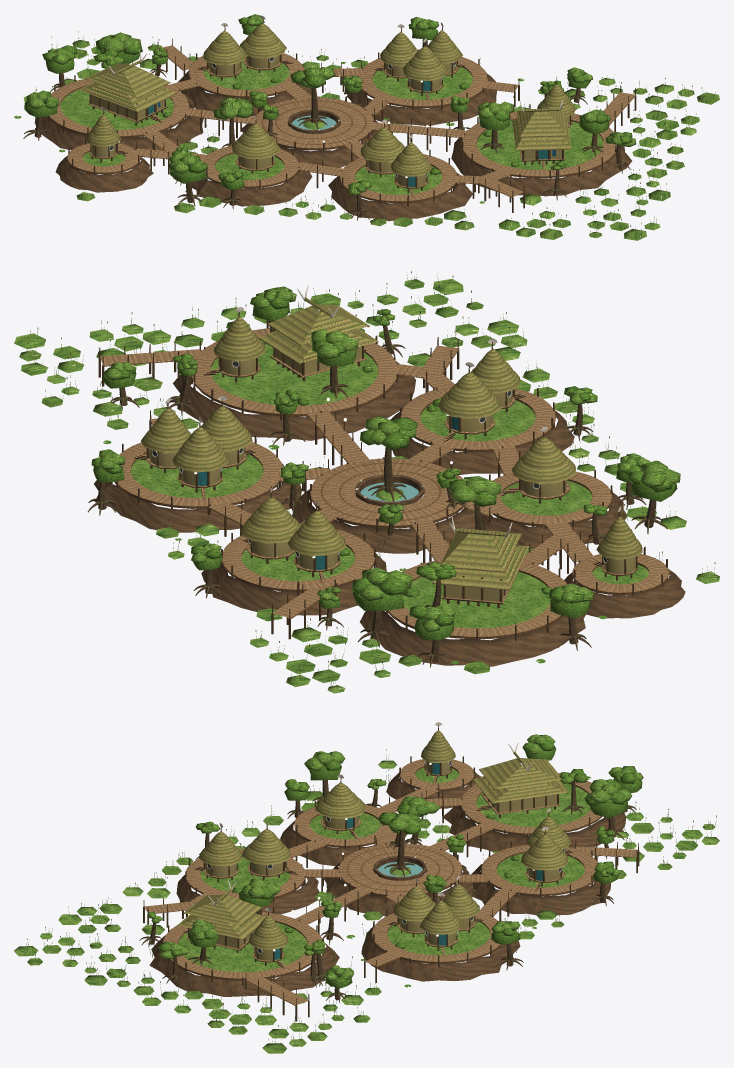
The model's file is frogtown_v2_lite.glb.
3 views of the same model, one above another, from view 1: azimuth 30°, elevation 25°; view 2: azimuth 150°, elevation 25°; view 3: azimuth 270°, elevation 25° (orthographic). The views are drawn at different scales.
Parts seen in each view (by area): view 1: frogtown_v2_lite, frogtown_v2_lite_foliage; view 2: frogtown_v2_lite, frogtown_v2_lite_foliage; view 3: frogtown_v2_lite, frogtown_v2_lite_foliage.
Part boxes in pixels (x1=…): frogtown_v2_lite: x1=14, y1=15, x2=636, y2=221; frogtown_v2_lite_foliage: x1=23, y1=14, x2=719, y2=240; frogtown_v2_lite: x1=87, y1=285, x2=685, y2=667; frogtown_v2_lite_foliage: x1=14, y1=271, x2=719, y2=693; frogtown_v2_lite: x1=139, y1=722, x2=639, y2=1021; frogtown_v2_lite_foliage: x1=14, y1=734, x2=719, y2=1053.
Bounding box in the file's own units: 94.02 × 10.76 × 95.62.
18 materials, 15 textured.
